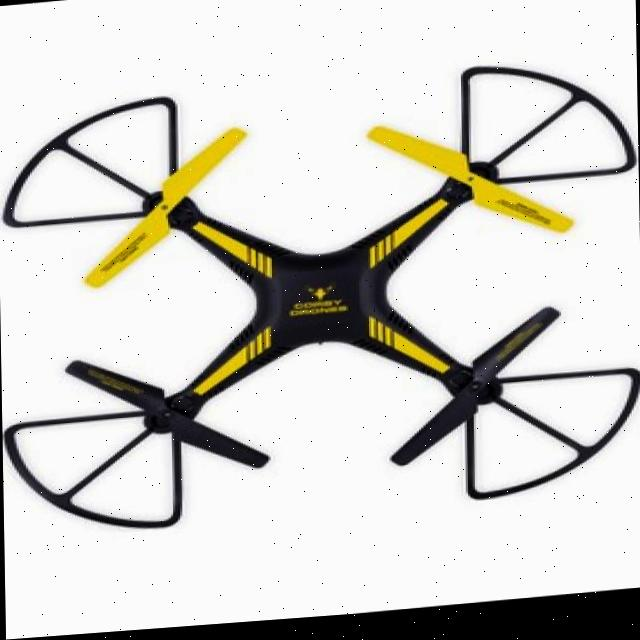drone: (5, 55, 640, 559)
